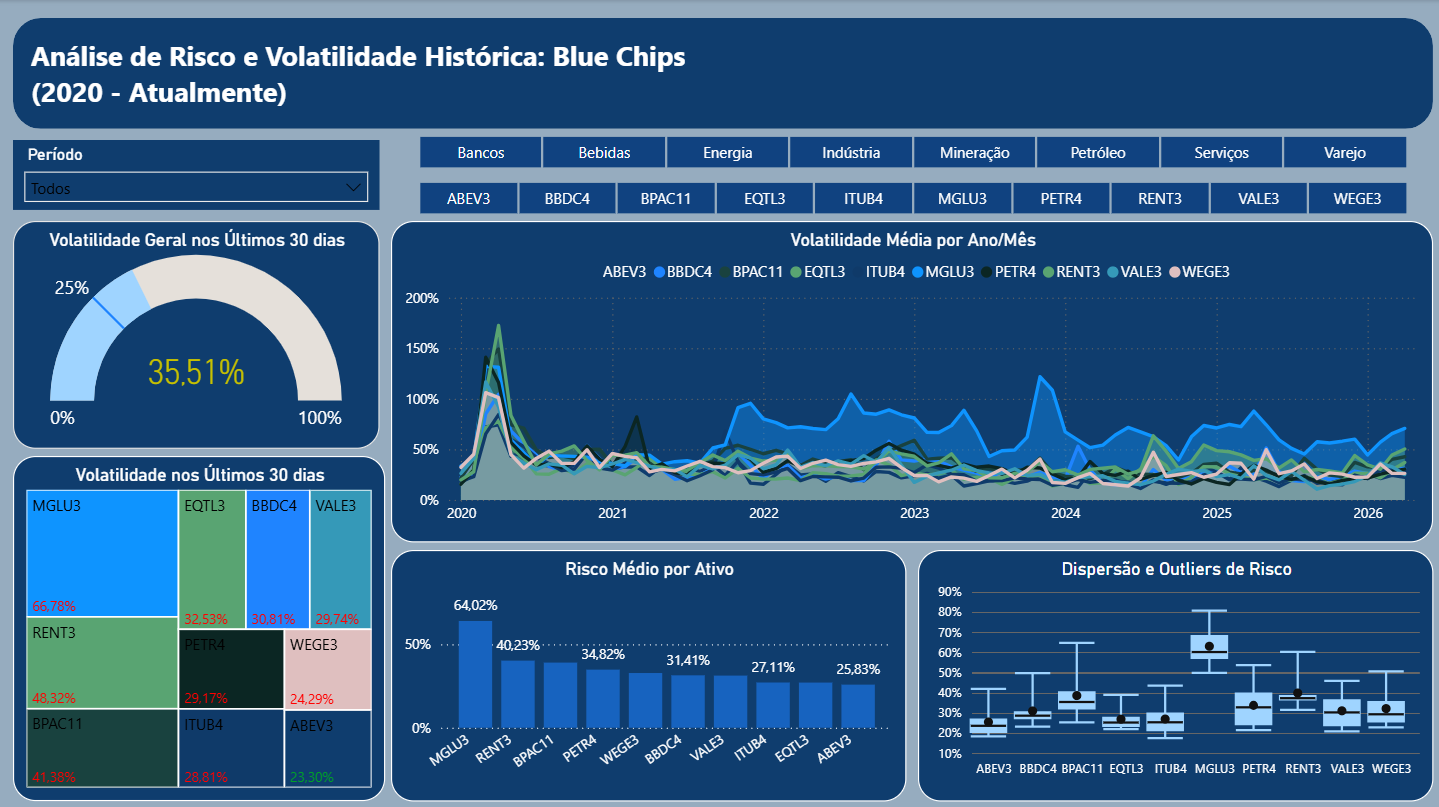

The dashboard page shown, as its layout file describes it:
{"tool":"powerbi","page":{"name":"Página 1","canvas":[1280,720],"ordinal":0},"visuals":[{"type":"lineChart","title":"Volatilidade Média por Ano/Mês","fields":{"Y":["Avg(gold (2).Volatilidade)"],"Category":["gold (2).Date.Variation.Hierarquia de datas.Ano","gold (2).Date.Variation.Hierarquia de datas.Mês"],"Series":["gold (2).Ticker"]},"box":[346.7,196,923.9,284.6],"z":0},{"type":"columnChart","title":"Risco Médio por Ativo","fields":{"Category":["gold (2).Ticker"],"Y":["Avg(gold (2).Volatilidade)"]},"box":[346.7,487.7,456.7,222.6],"z":1000},{"type":"BoxWhiskerChart1455240051538","title":"Dispersão e Outliers de Risco","fields":{"Values":["Avg(gold (2).Volatilidade)"],"Groups":["gold (2).Ticker"],"Samples":["gold (2).Date.Variation.Hierarquia de datas.Ano"]},"box":[814,487.7,456.7,222.6],"z":2000},{"type":"shape","box":[11.5,16,1259.1,98.4],"z":3000},{"type":"textbox","box":[22.2,27.5,598.5,75.4],"z":4000},{"type":"slicer","fields":{"Values":["gold (2).Setor"]},"box":[346.7,114.4,923.9,40.8],"z":6000},{"type":"treemap","title":"Volatilidade nos Últimos 30 dias","fields":{"Values":["Max_Volatilidade.Media Volatilidade 30D"],"Group":["gold (2).Ticker"]},"box":[11.5,404.3,329.9,305.9],"z":7000},{"type":"gauge","title":"Volatilidade Geral nos Últimos 30 dias","fields":{"Y":["Max_Volatilidade.Media Volatilidade 30D"],"TargetValue":["Max_Volatilidade.Medida"]},"box":[11.5,196,324.5,202.2],"z":8000},{"type":"slicer","fields":{"Values":["gold (2).Date.Variation.Hierarquia de datas.Ano","gold (2).Date.Variation.Hierarquia de datas.Mês"]},"box":[11.5,124.1,324.5,62.1],"z":9000},{"type":"slicer","fields":{"Values":["gold (2).Ticker"]},"box":[346.7,155.2,923.9,40.8],"z":10000}]}

Visuals, with their boxes in screenshot pixels (x1, y1, x2, y2), scaled from the page's 1280x720 canvas onto the 1439x807 screenshot:
"Volatilidade Média por Ano/Mês" lineChart: (x1=390, y1=220, x2=1428, y2=539)
"Risco Médio por Ativo" columnChart: (x1=390, y1=547, x2=903, y2=796)
"Dispersão e Outliers de Risco" BoxWhiskerChart1455240051538: (x1=915, y1=547, x2=1429, y2=796)
shape: (x1=13, y1=18, x2=1428, y2=128)
textbox: (x1=25, y1=31, x2=698, y2=115)
slicer - gold (2).Setor: (x1=390, y1=128, x2=1428, y2=174)
"Volatilidade nos Últimos 30 dias" treemap: (x1=13, y1=453, x2=384, y2=796)
"Volatilidade Geral nos Últimos 30 dias" gauge: (x1=13, y1=220, x2=378, y2=446)
slicer - gold (2).Date.Variation.Hierarquia de datas.Ano x gold (2).Date.Variation.Hierarquia de datas.Mês: (x1=13, y1=139, x2=378, y2=209)
slicer - gold (2).Ticker: (x1=390, y1=174, x2=1428, y2=220)
